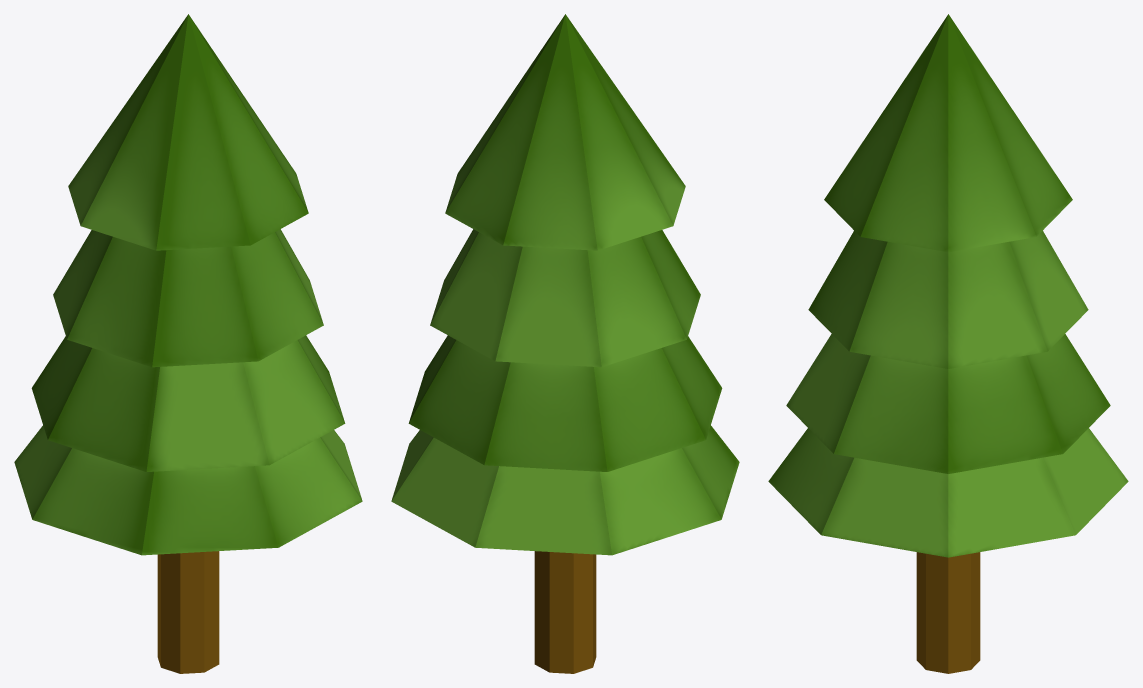
File: tree.fbx
3 renders of one model, left to right at view 1: azimuth 30°, elevation 25°; view 2: azimuth 150°, elevation 25°; view 3: azimuth 270°, elevation 25°, orthographic.
Parts seen in each view (by area): view 1: tree; view 2: tree; view 3: tree.
Part boxes in pixels (x1,y1,x2,y2): tree: [14, 14, 362, 673]; tree: [391, 14, 739, 673]; tree: [768, 14, 1128, 673].
Size of the model in its own units: 721 by 1427 by 721.
